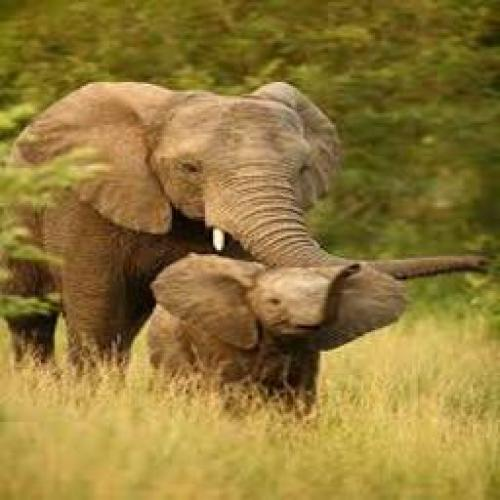african_elephant-endangered: (6, 78, 484, 400), (148, 246, 410, 417)
